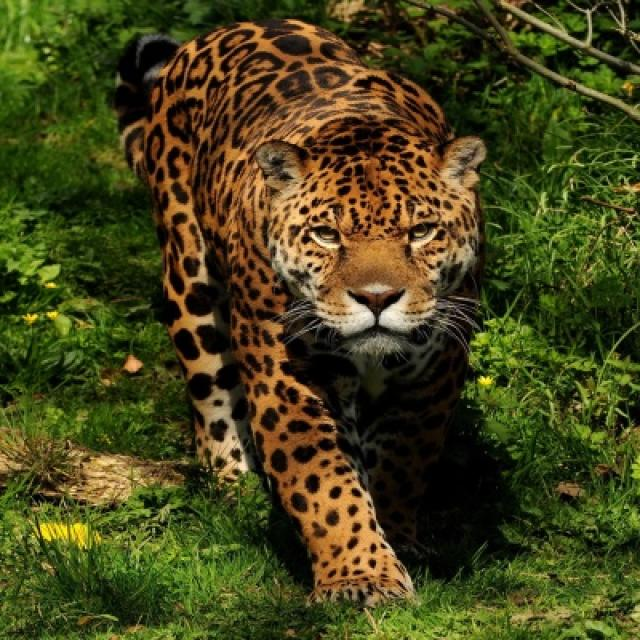Jaguar: (123, 25, 482, 607)
